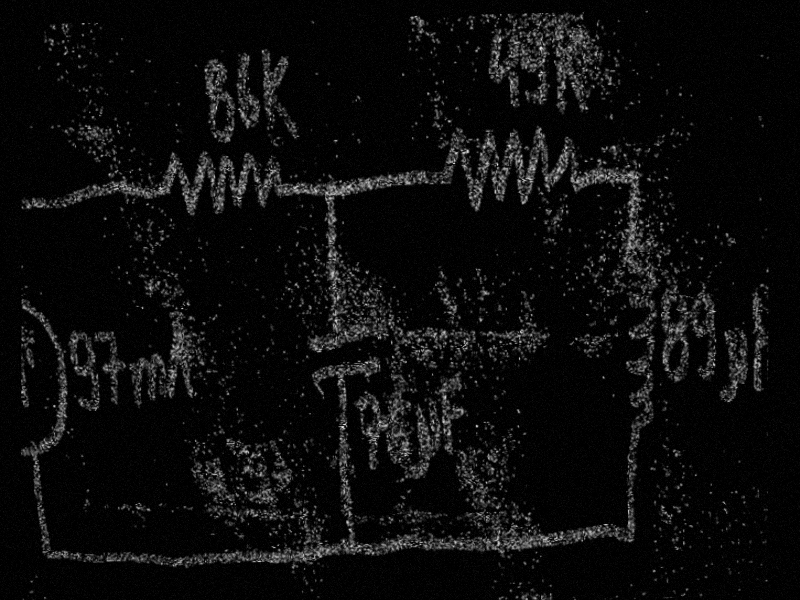4: (486, 27, 523, 111)
6: (231, 50, 264, 131), (382, 381, 413, 467)
7: (91, 325, 132, 409), (351, 387, 389, 473)
8: (200, 58, 241, 148), (658, 286, 692, 388)
9: (62, 325, 105, 416), (688, 291, 720, 385), (519, 24, 551, 115)
A: (158, 312, 197, 402)
F: (437, 370, 467, 453)
H: (749, 290, 768, 394)
k: (258, 45, 302, 151), (551, 26, 590, 118)
m: (126, 353, 170, 406)
u: (409, 398, 443, 482), (718, 326, 748, 405)
